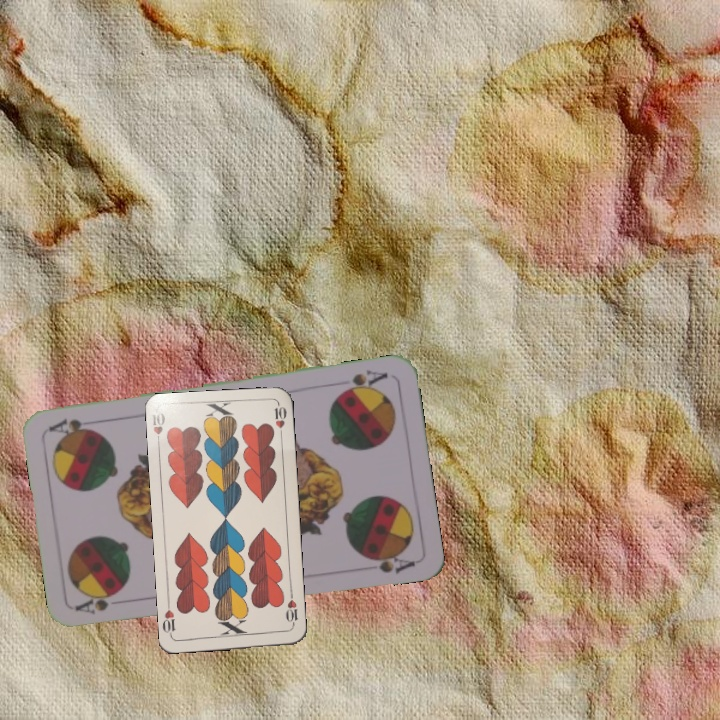H10: (281, 589, 301, 630), (148, 408, 168, 449)
SA: (335, 366, 391, 397), (72, 588, 123, 617)
